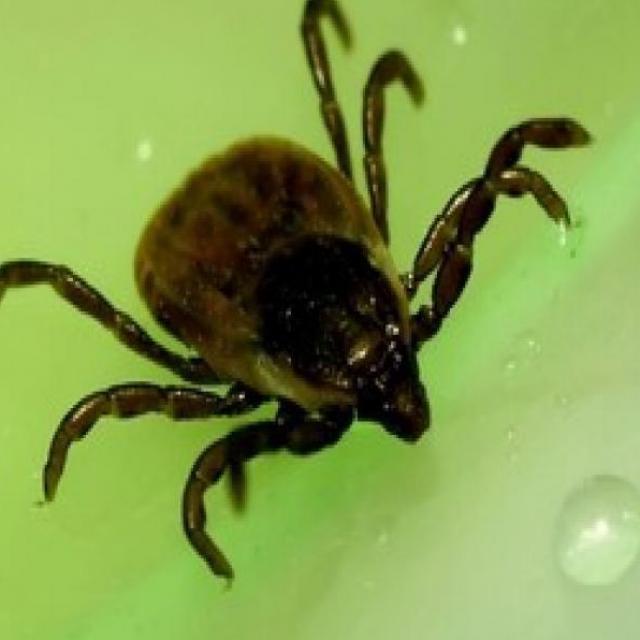Rhipicephalus Sanguineus-F: (0, 0, 593, 582)
